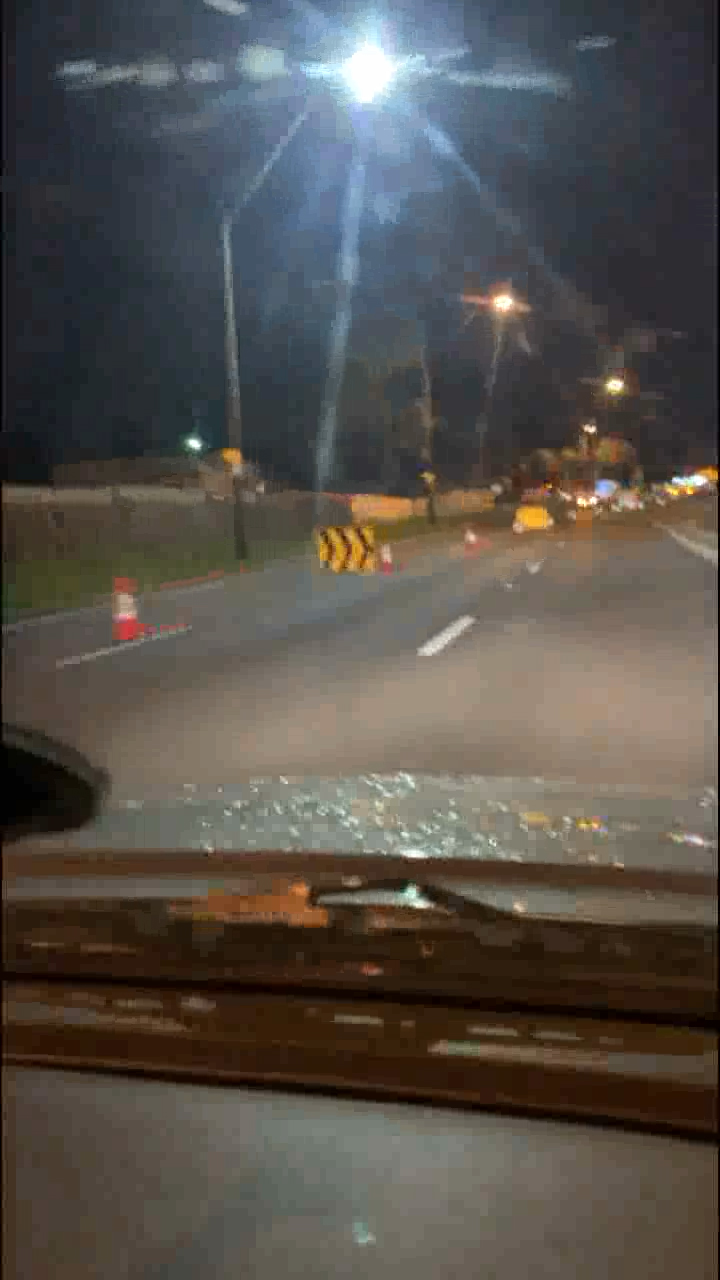road cone: (110, 579, 147, 636)
road works sign board: (320, 534, 383, 573)
